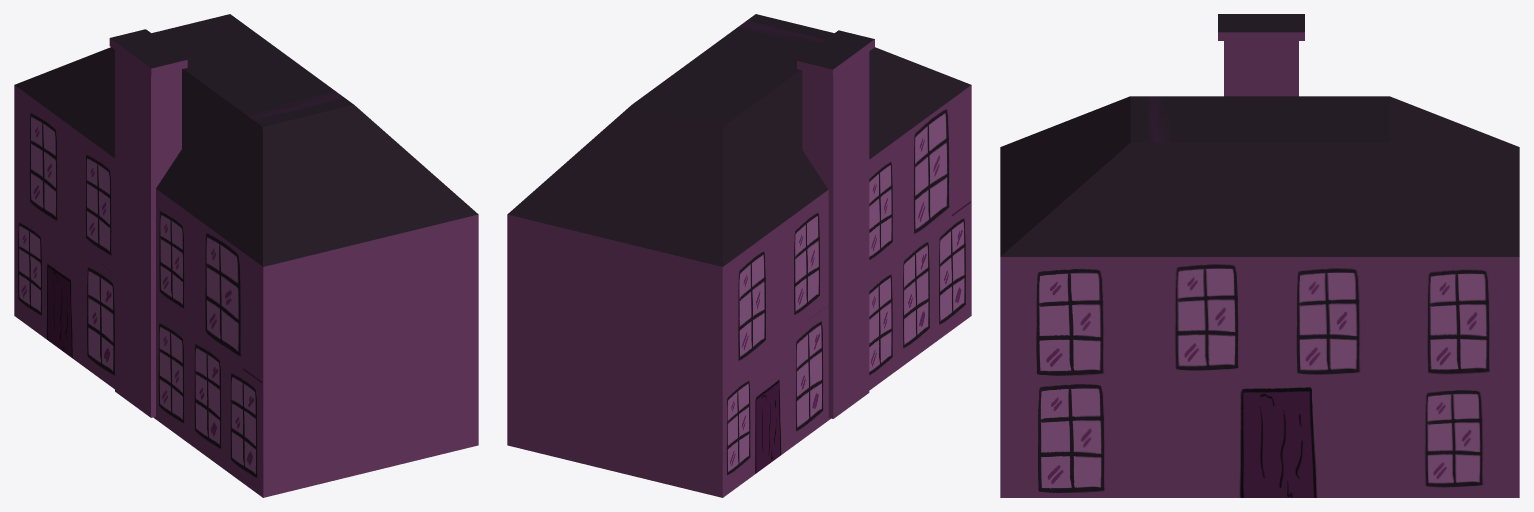
The model's file is House_6 1.fbx.
The picture shows the model from 3 angles, left to right: view 1: azimuth 30°, elevation 25°; view 2: azimuth 150°, elevation 25°; view 3: azimuth 270°, elevation 25°; orthographic projection. The views are drawn at different scales.
Visible parts, largest first — view 1: Cube; view 2: Cube; view 3: Cube.
Part boxes in pixels (left/top/right/bottom): Cube: left=14, top=14, right=478, bottom=497; Cube: left=507, top=14, right=971, bottom=497; Cube: left=1000, top=14, right=1519, bottom=497.
Size of the model in its own units: 414 by 629 by 800.
Materials: 1 (1 with a texture image).
